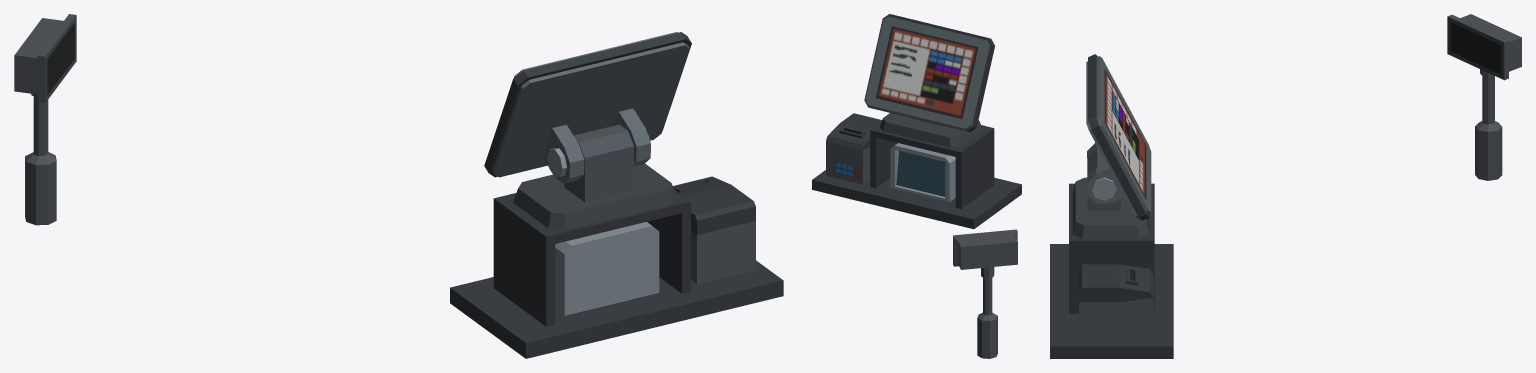
The model's file is SM_Prop_Market_Checkout_Large_CashRegister_01.obj.
The picture shows the model from 3 angles, left to right: view 1: azimuth 30°, elevation 25°; view 2: azimuth 150°, elevation 25°; view 3: azimuth 270°, elevation 25°; orthographic projection. The views are drawn at different scales.
Parts seen in each view (by area): view 1: SM_Prop_Market_Checkout_Large_CashRegister_01_0; view 2: SM_Prop_Market_Checkout_Large_CashRegister_01_0; view 3: SM_Prop_Market_Checkout_Large_CashRegister_01_0.
Boxes of the visible parts, bbox=[...] form: SM_Prop_Market_Checkout_Large_CashRegister_01_0: bbox=[14, 14, 783, 358]; SM_Prop_Market_Checkout_Large_CashRegister_01_0: bbox=[812, 14, 1021, 358]; SM_Prop_Market_Checkout_Large_CashRegister_01_0: bbox=[1050, 14, 1521, 358].
Bounding box in the file's own units: 1.32 × 0.659 × 1.3.
1 material, 1 textured.
